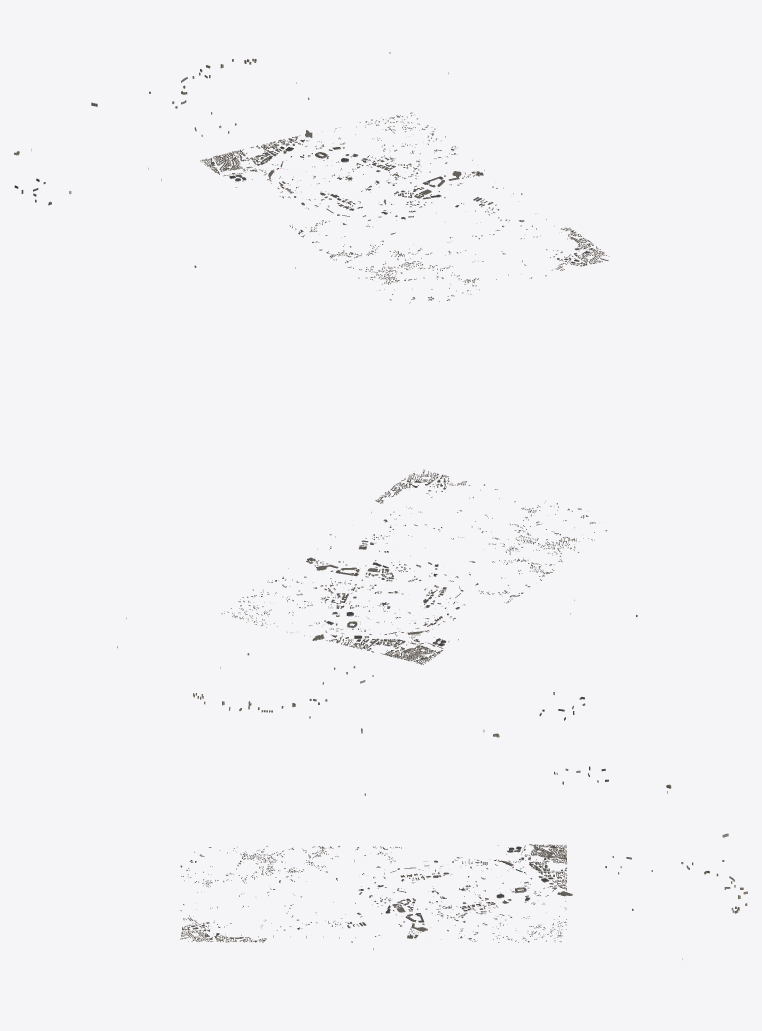
Rendered from scenery.glb.
3 views of the same model, one above another, from view 1: azimuth 30°, elevation 25°; view 2: azimuth 150°, elevation 25°; view 3: azimuth 270°, elevation 25° (orthographic). The views are drawn at different scales.
Bounding box in the file's own units: 9706 × 84.55 × 12176.
